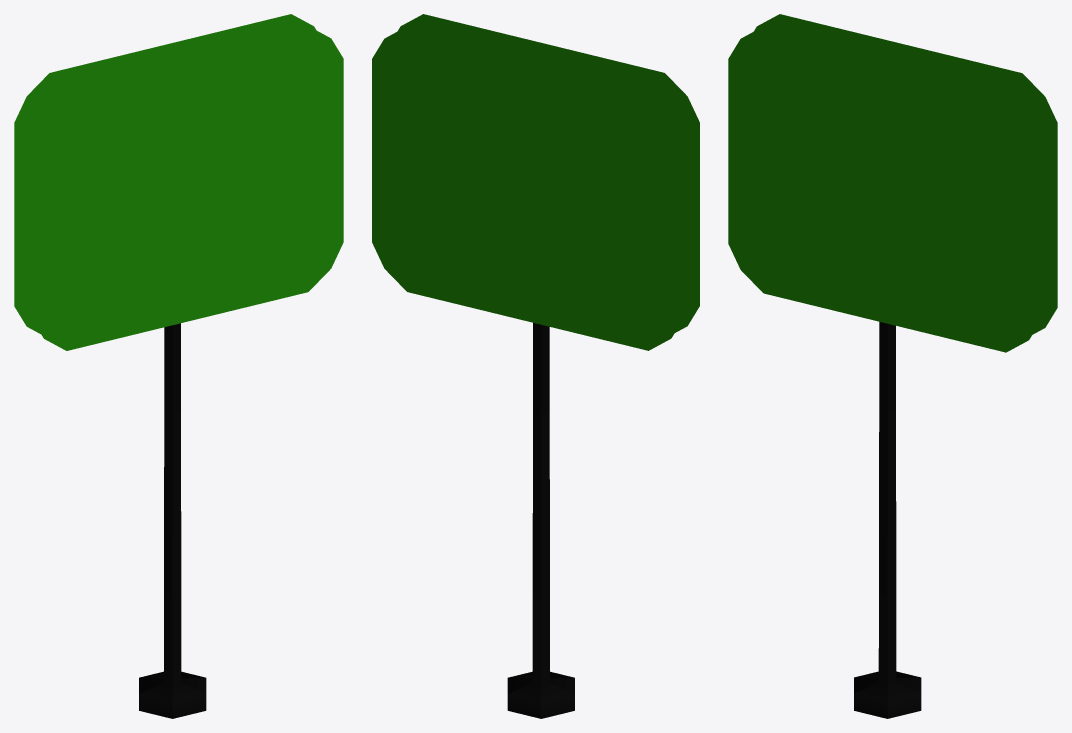
The model's file is BewareSign_SM.fbx.
The picture shows the model from 3 angles, left to right: view 1: azimuth 30°, elevation 25°; view 2: azimuth 150°, elevation 25°; view 3: azimuth 330°, elevation 25°; orthographic projection.
Visible parts, largest first — view 1: BewareSign_SM; view 2: BewareSign_SM; view 3: BewareSign_SM.
Part boxes in pixels (bbox=[...]): BewareSign_SM: bbox=[14, 14, 343, 718]; BewareSign_SM: bbox=[372, 14, 699, 718]; BewareSign_SM: bbox=[728, 14, 1057, 718].
Bounding box in the file's own units: 74.16 × 148 × 13.81.
